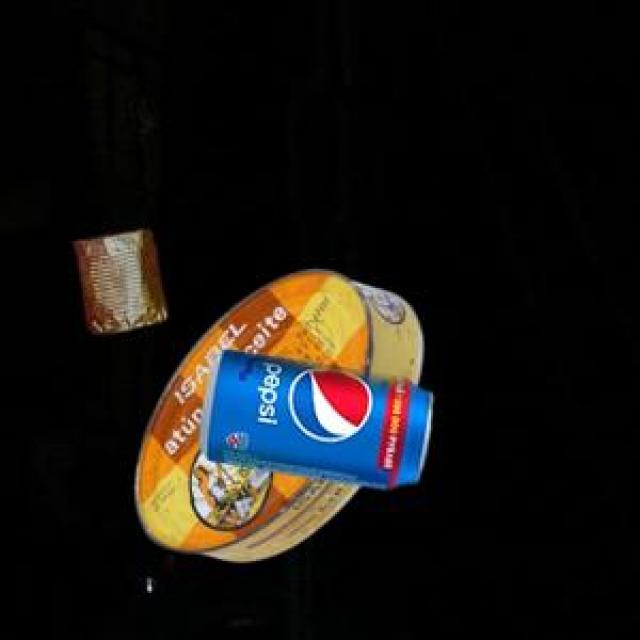logam: (131, 268, 419, 558), (197, 347, 430, 485), (71, 227, 163, 330)
